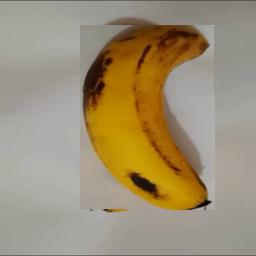Banana Semifresh: (81, 26, 216, 211)
